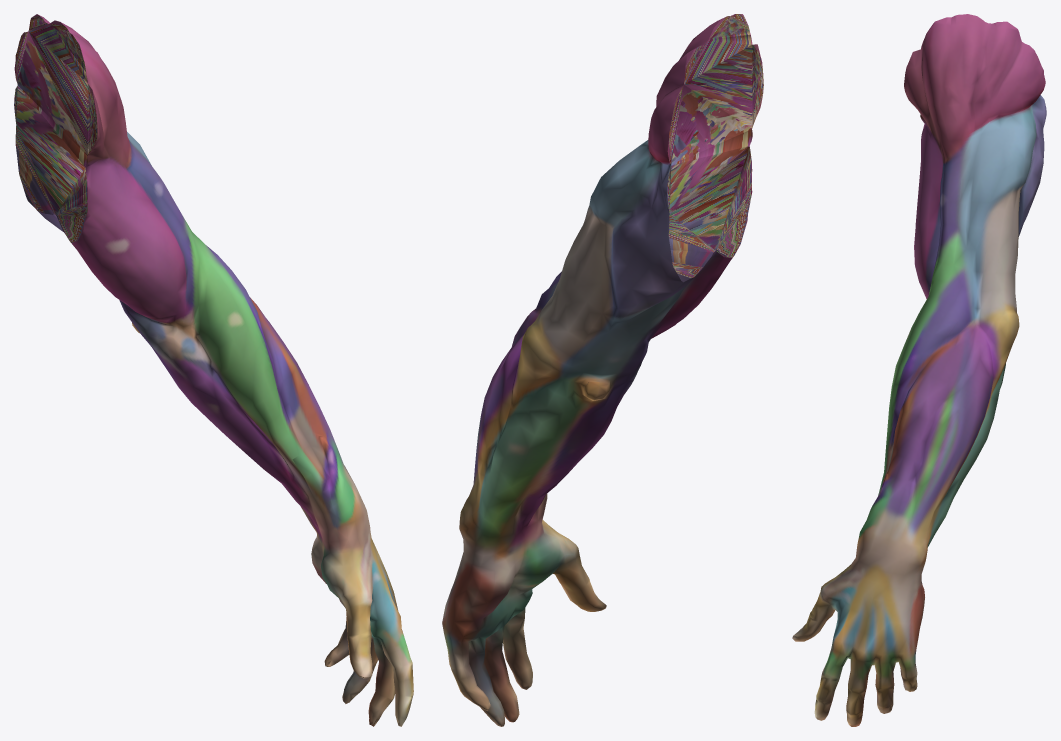
File: derived-anatomy-left-arm.glb
The picture shows the model from 3 angles, left to right: view 1: azimuth 30°, elevation 25°; view 2: azimuth 150°, elevation 25°; view 3: azimuth 270°, elevation 25°; orthographic projection. The views are drawn at different scales.
Parts seen in each view (by area): view 1: derived-anatomy-left-arm; view 2: derived-anatomy-left-arm; view 3: derived-anatomy-left-arm.
Boxes of the visible parts, x1,y1,x2,y2 form: derived-anatomy-left-arm: (14,14,413,726); derived-anatomy-left-arm: (442,14,763,726); derived-anatomy-left-arm: (792,14,1046,726).
Bounding box in the file's own units: 0.2796 × 0.691 × 0.261.
Materials: 1 (1 with a texture image).
